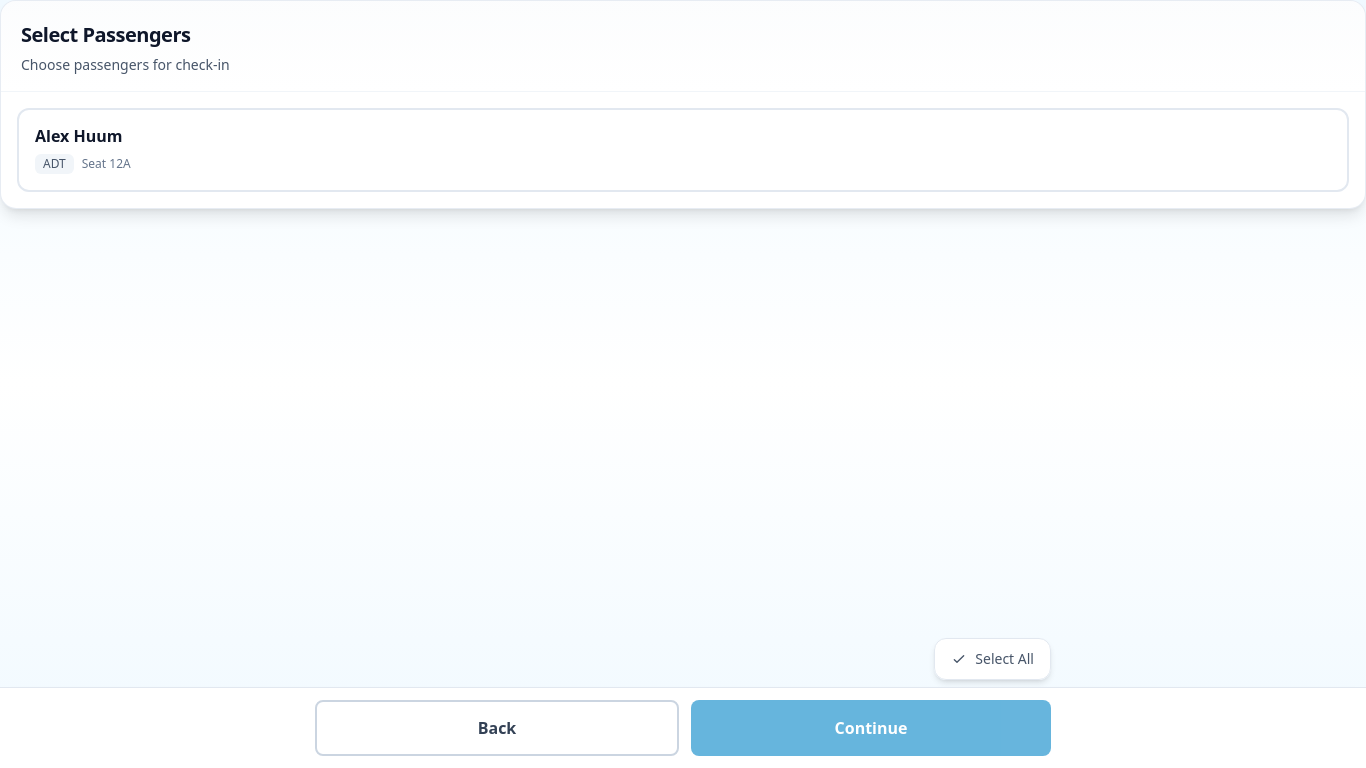
PassengerSelect › Edge Cases › should handle single passenger
Click the button "Alex Huum ADT Seat 12A" at (52, 136), box [17,108,1349,192]
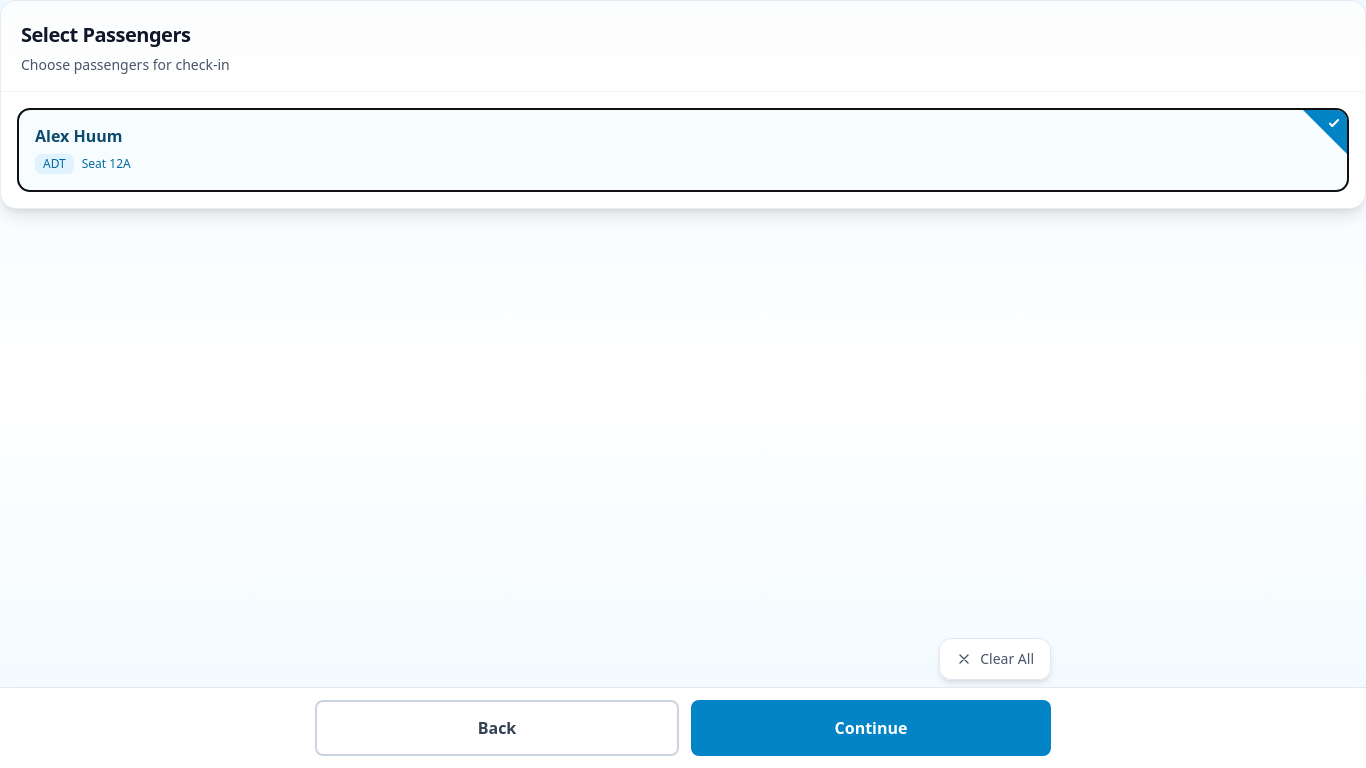
Check: the button "Continue" is enabled, box [691,700,1051,756]
